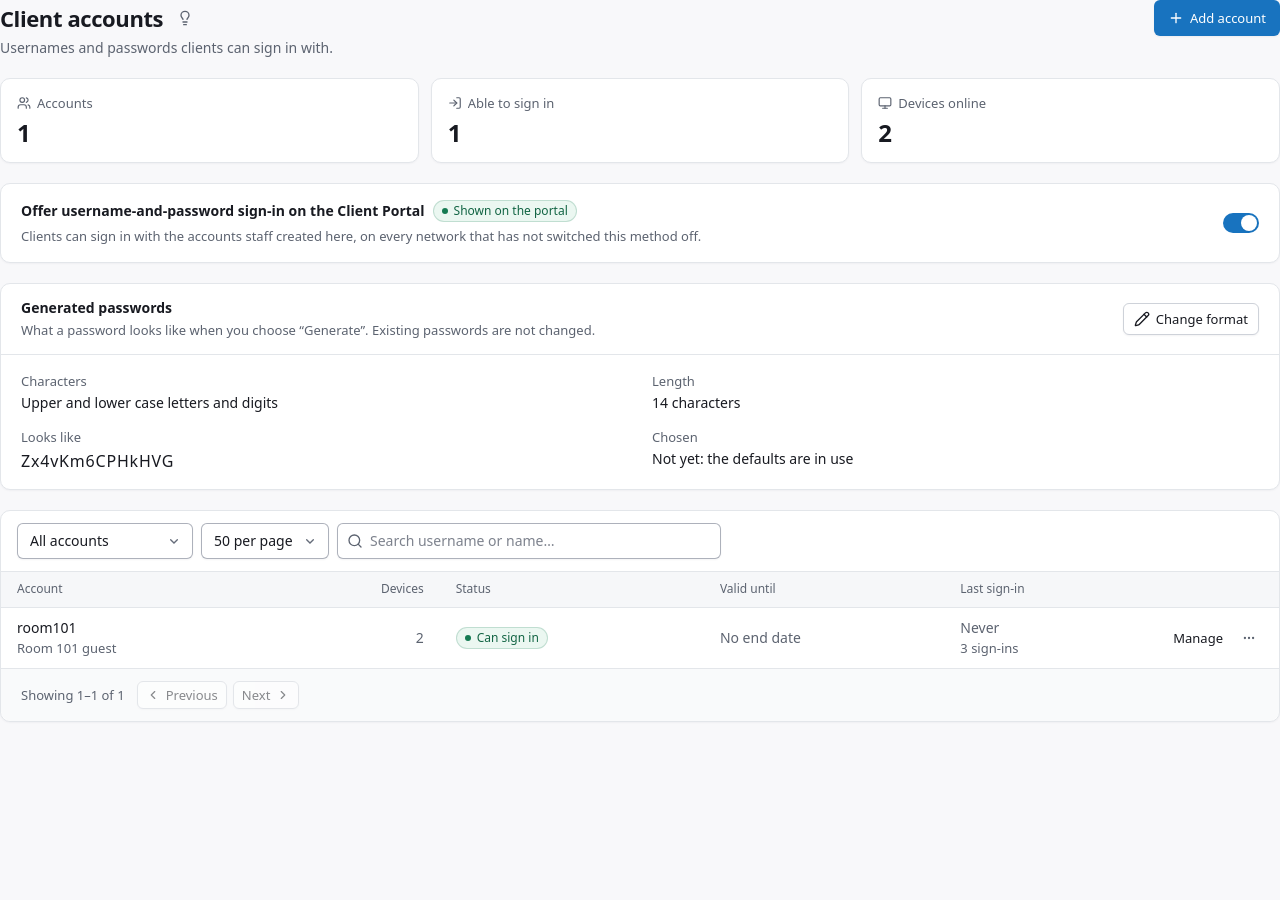
Test case: Client accounts — disconnecting an account's devices › sends the disconnect flag with the new password and reports the confirmed count
expect the text "room101" is shown: met, box top-left (17, 618), bottom-right (77, 638)
Press Enter in the button named "Actions for ", box top-left (1235, 624), bottom-right (1263, 652)
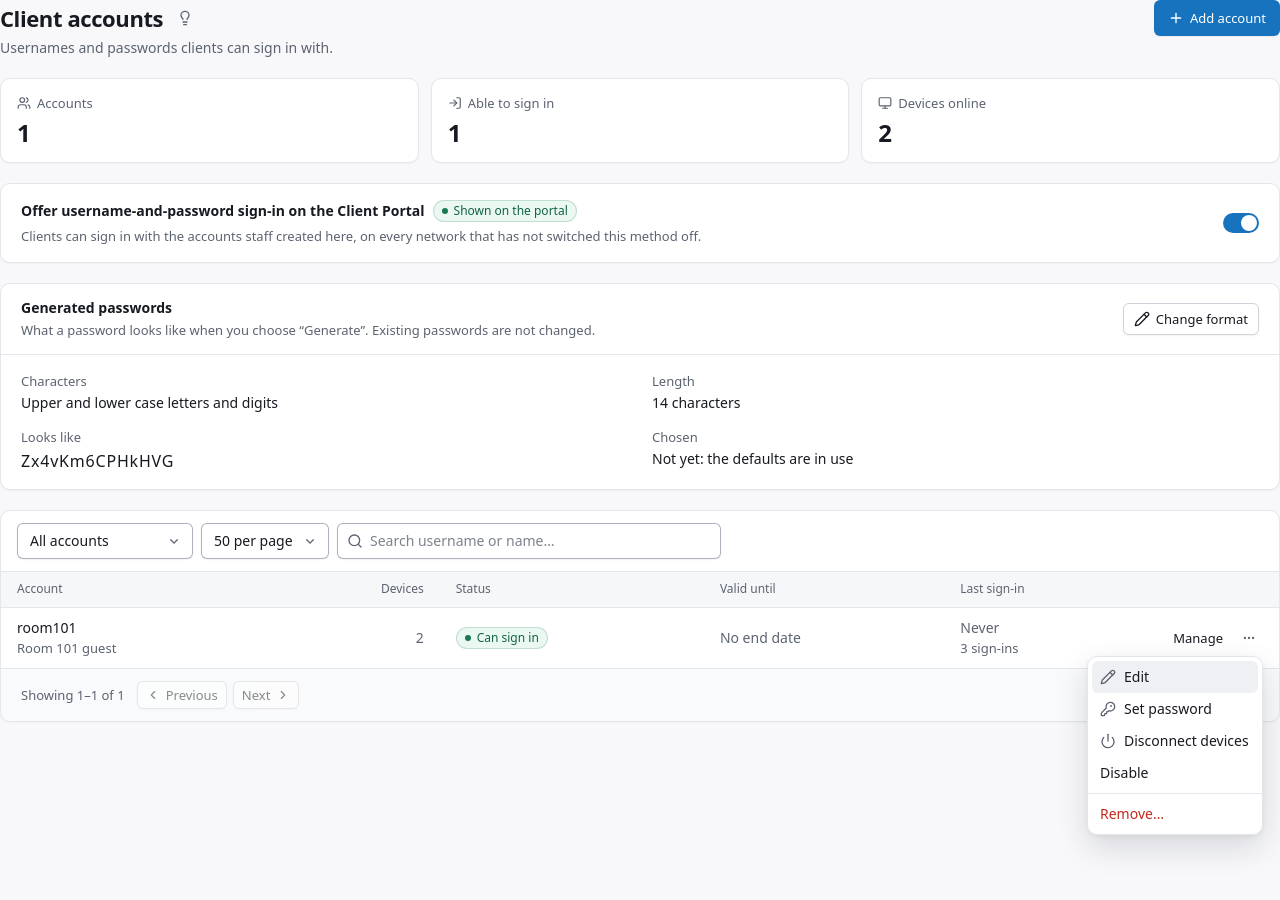
Click the menu item "Set password" at (1156, 708), box top-left (1100, 699), bottom-right (1212, 718)
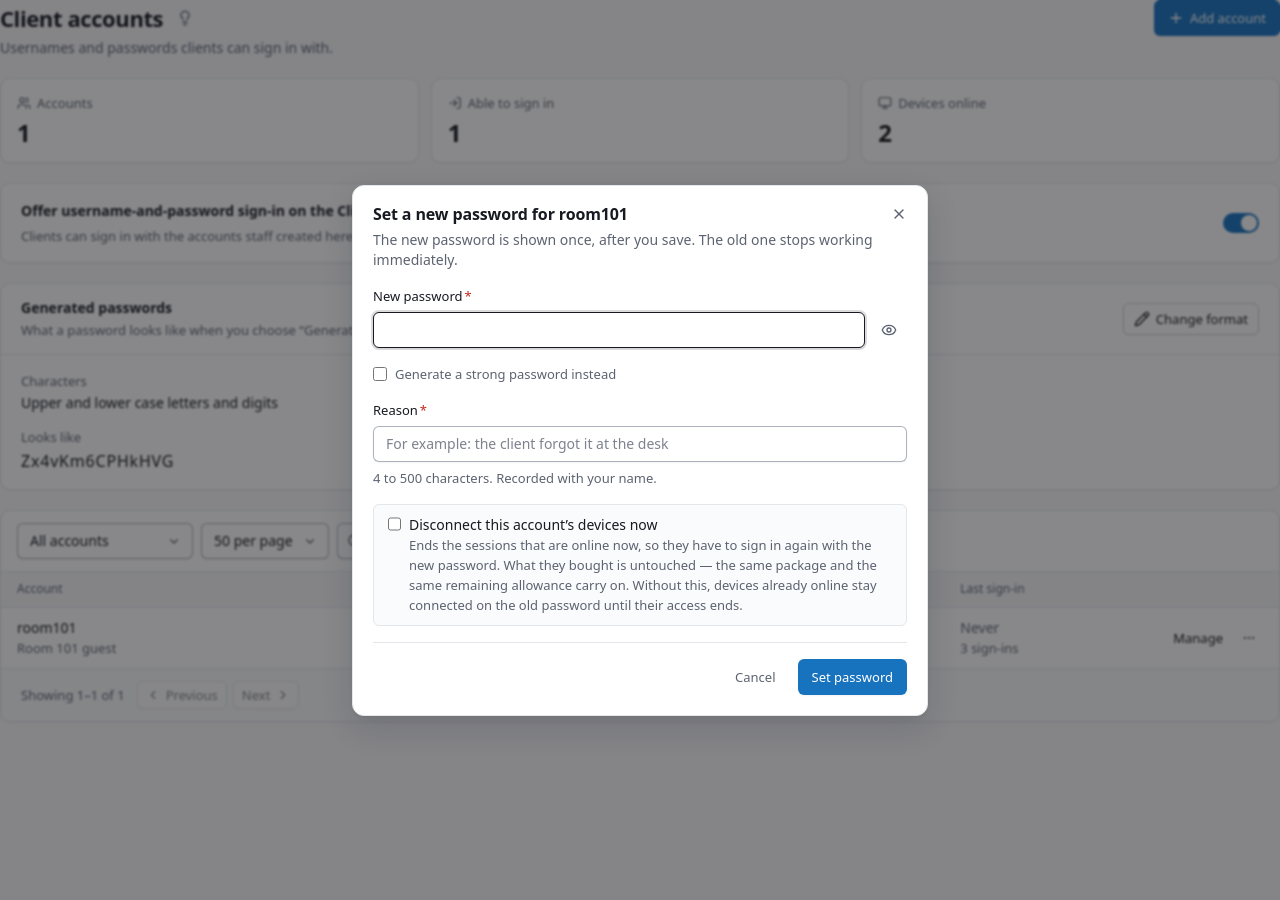
Type "fresh-one" into the password field named "password" at (619, 330), box top-left (373, 312), bottom-right (865, 348)
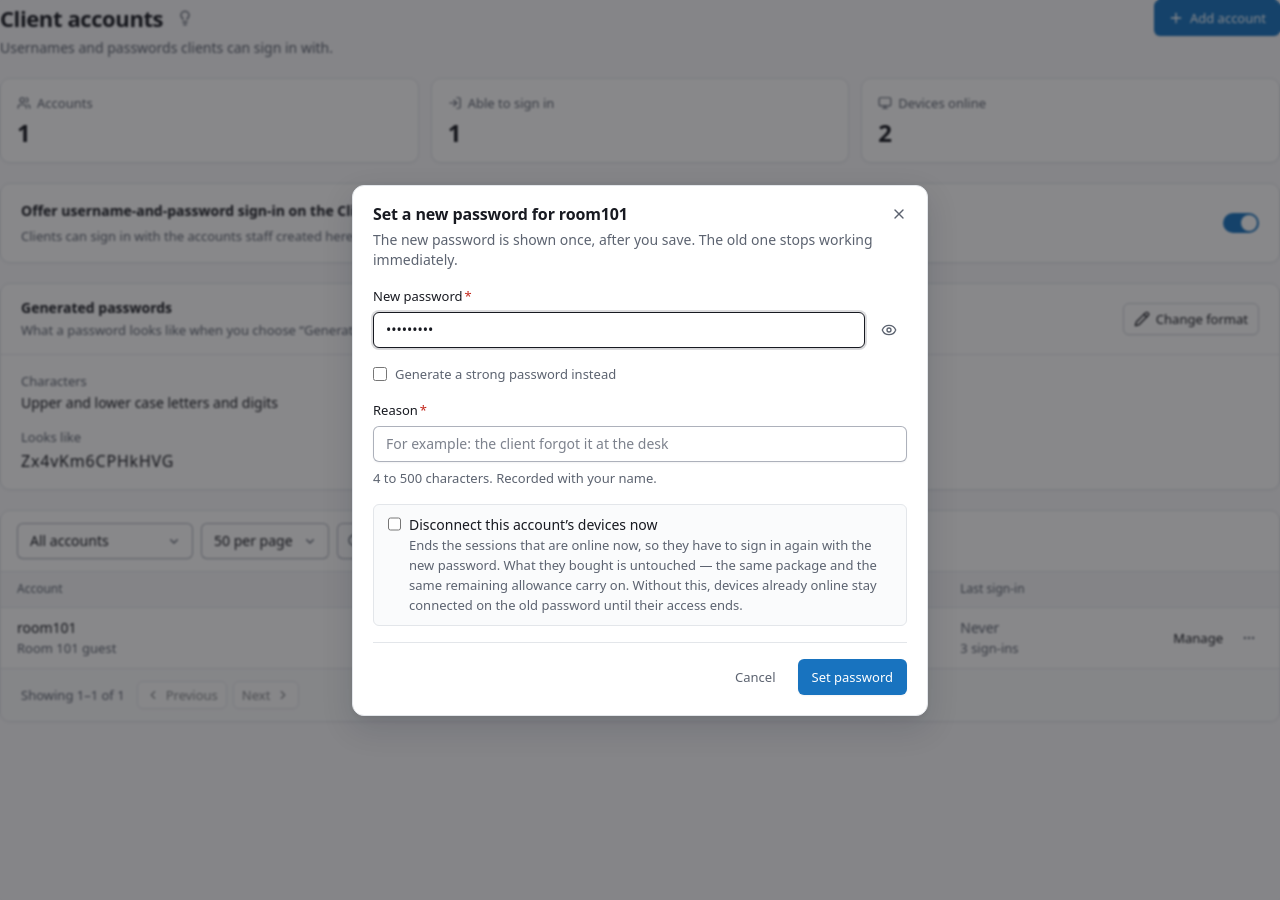
Type "forgot it at the desk" into the field labelled "Reason*" at (640, 444), box top-left (373, 426), bottom-right (907, 462)
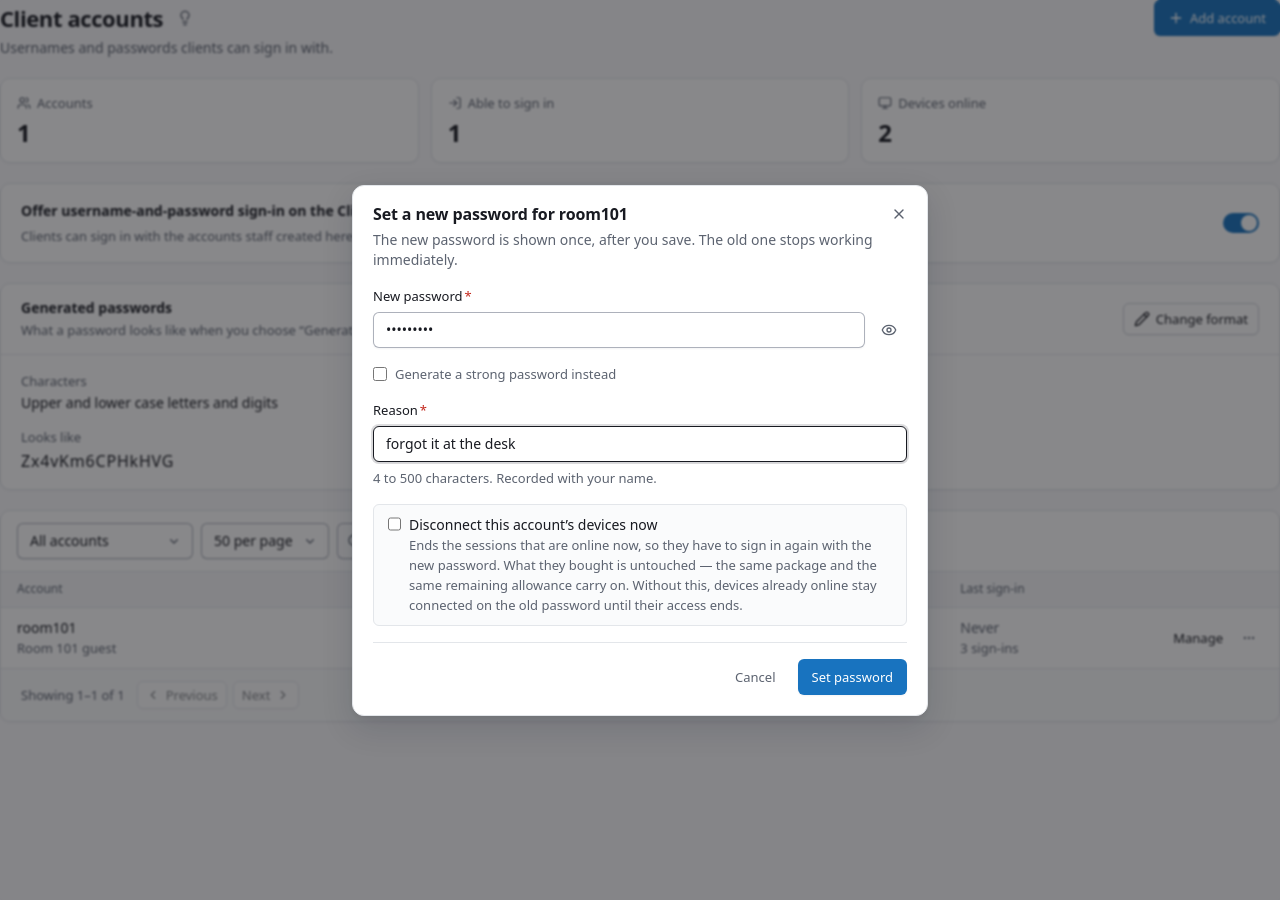
Click the checkbox labelled "Disconnect this account’s devices now" at (394, 524), box top-left (388, 516), bottom-right (401, 530)
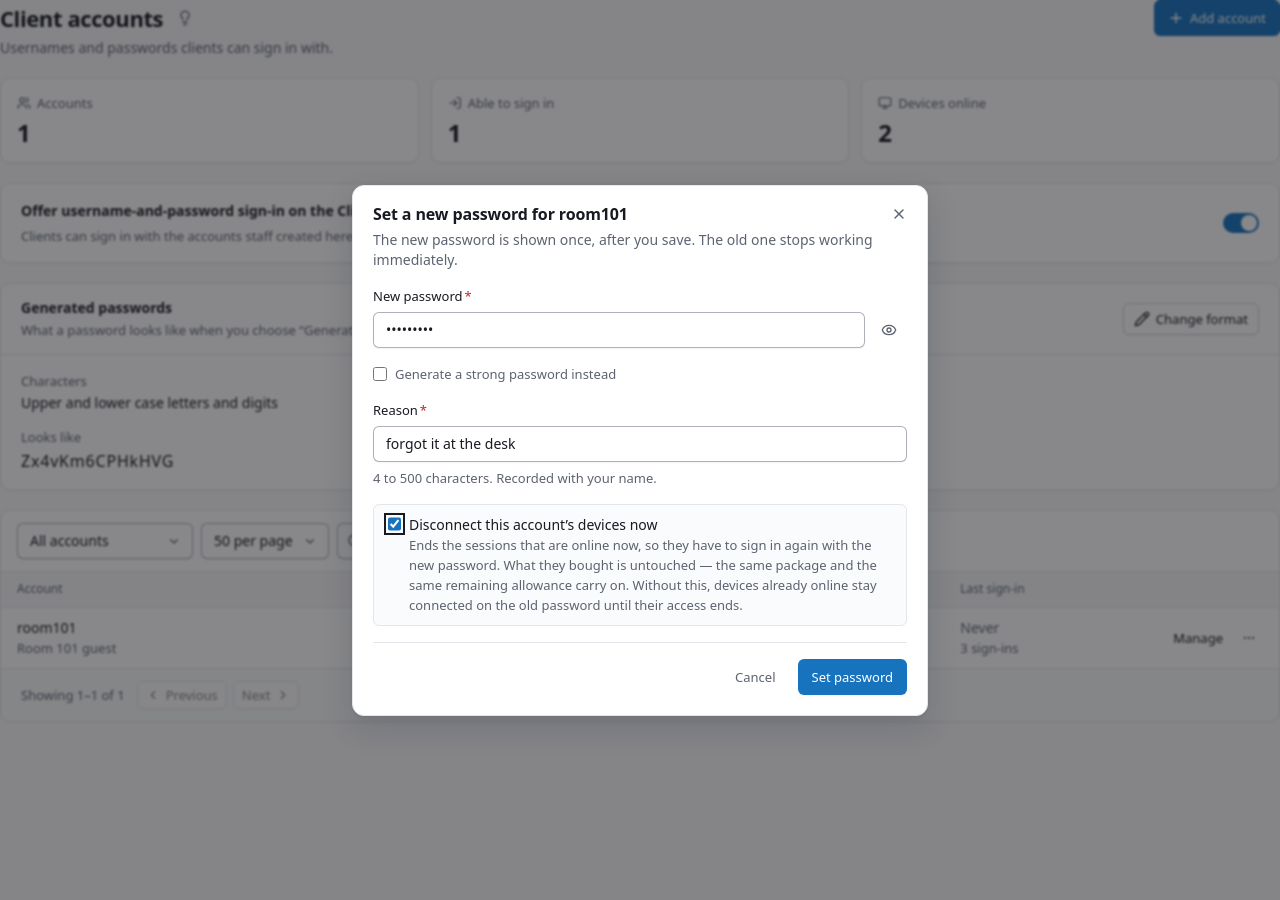
Click the button "Set password" at (852, 676), box top-left (798, 658), bottom-right (907, 694)
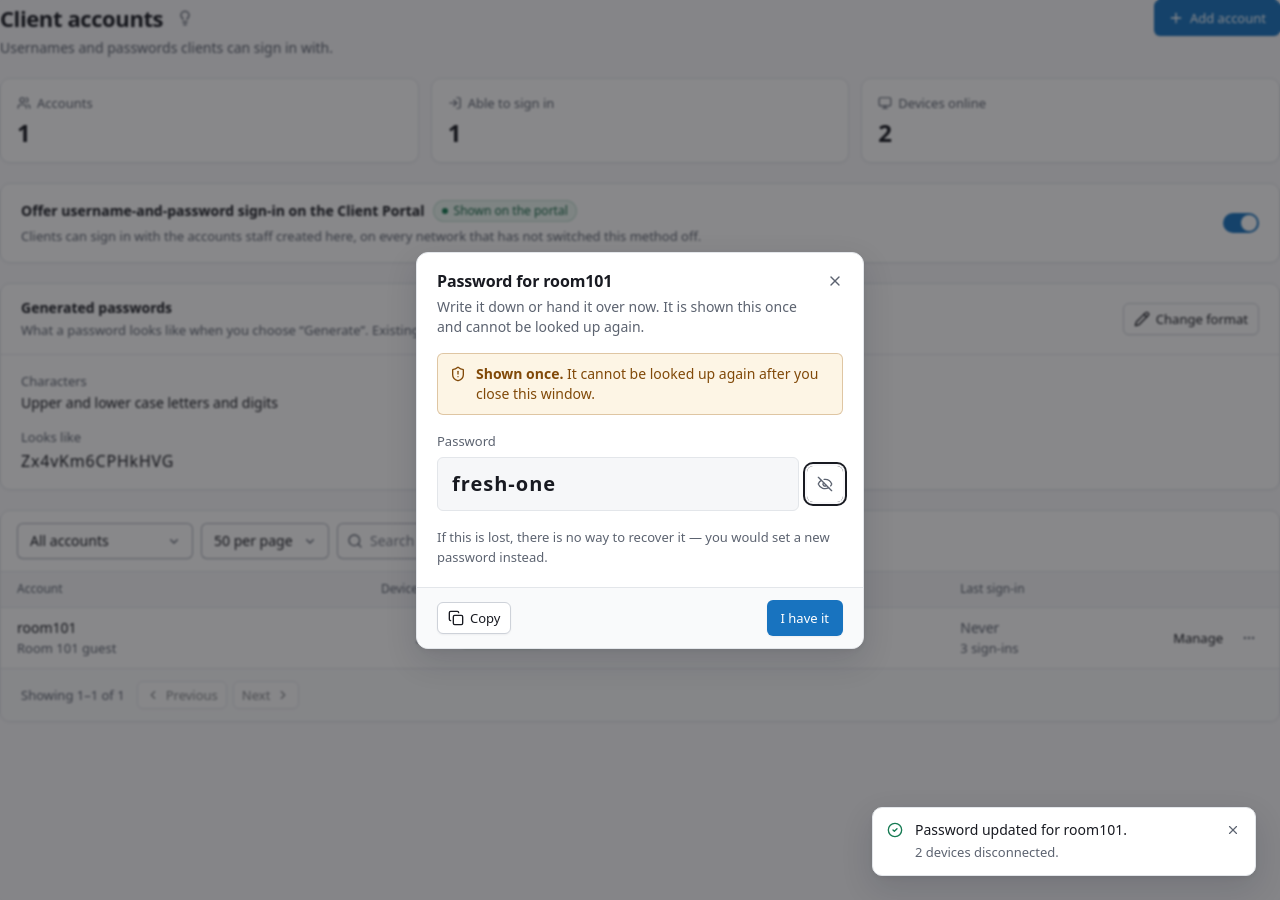
expect the text "2 devices disconnected." is shown: met, box top-left (915, 843), bottom-right (1059, 861)
